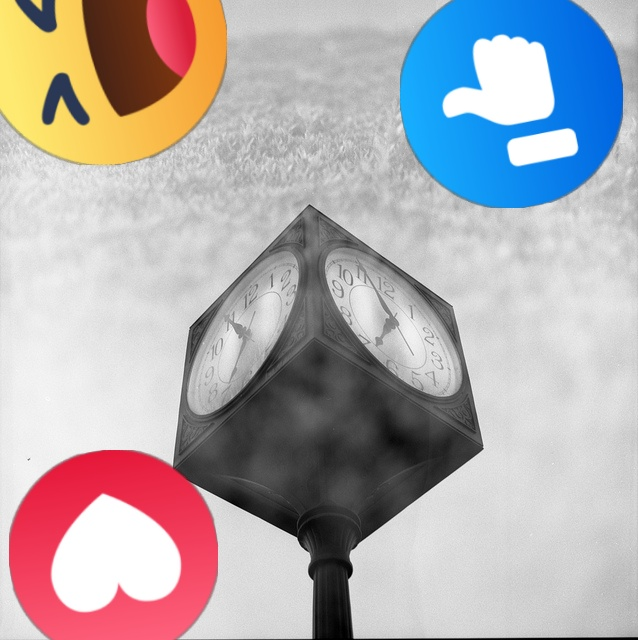haha: (0, 0, 227, 165)
like: (400, 0, 623, 208)
love: (9, 450, 218, 640)
